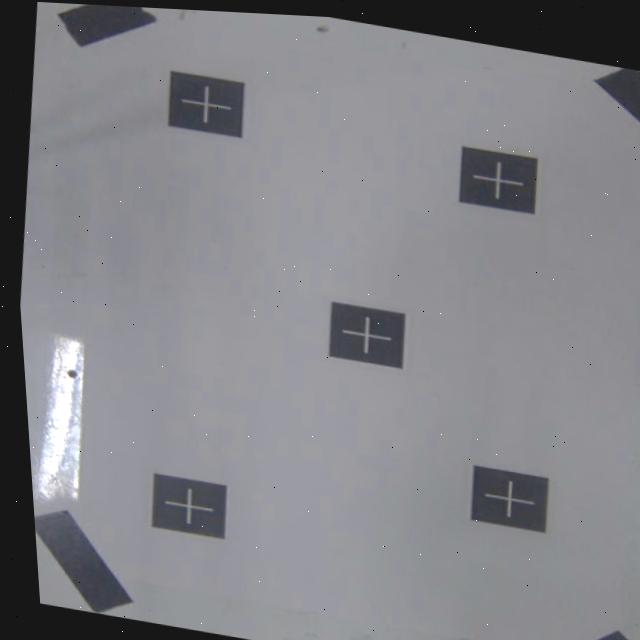dot: (163, 67, 251, 138), (321, 299, 411, 368), (465, 463, 554, 532), (455, 144, 543, 213), (146, 469, 231, 538)
